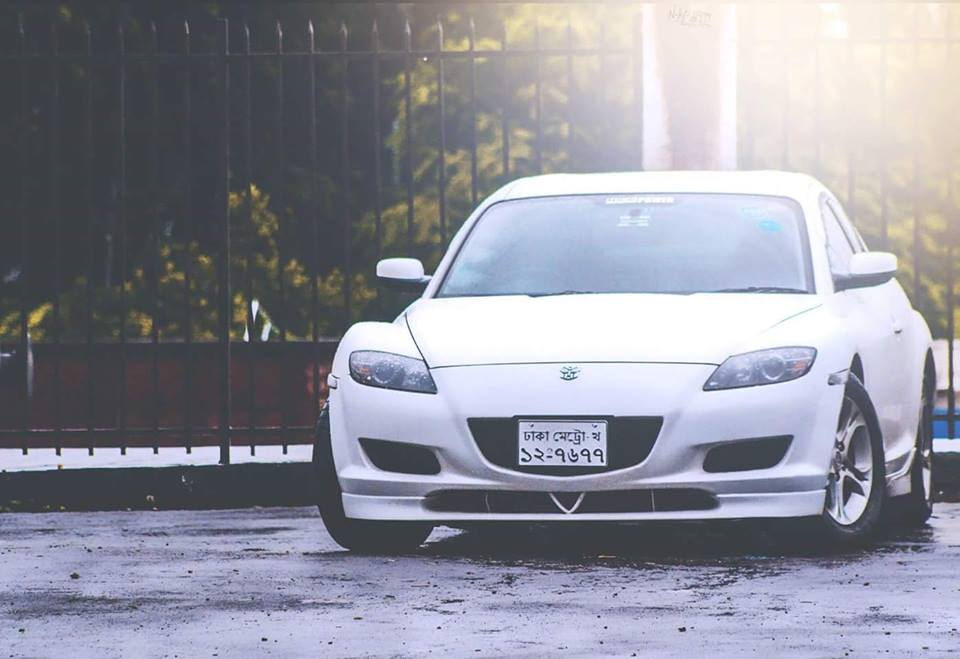registration_plate: (516, 418, 608, 467)
